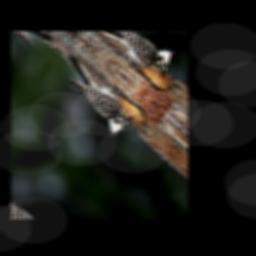Woodpecker: (48, 47, 142, 143)
